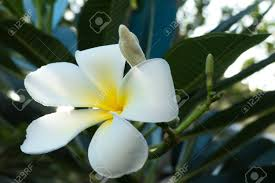frangipani: (21, 43, 180, 178)
